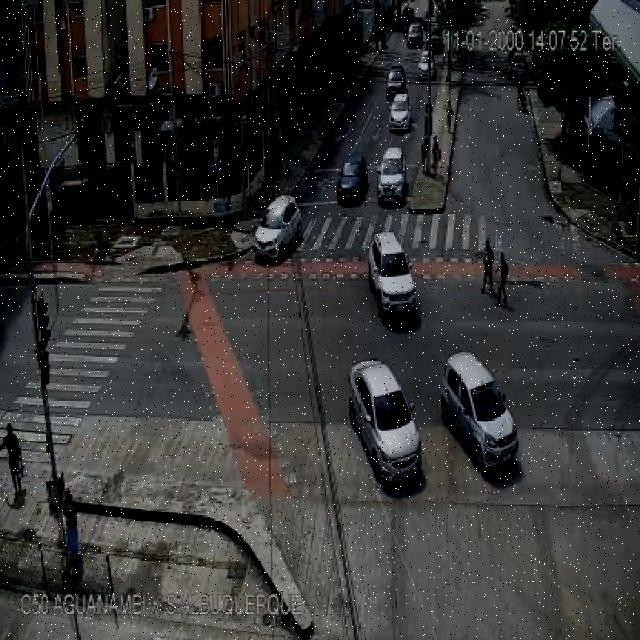Car: (348, 359, 424, 490), (440, 352, 519, 472), (366, 231, 416, 320), (255, 195, 304, 262), (377, 146, 407, 204), (337, 152, 368, 204), (388, 95, 412, 132), (385, 66, 407, 100), (417, 51, 437, 80), (508, 53, 528, 81), (407, 21, 424, 48), (428, 32, 444, 54)
